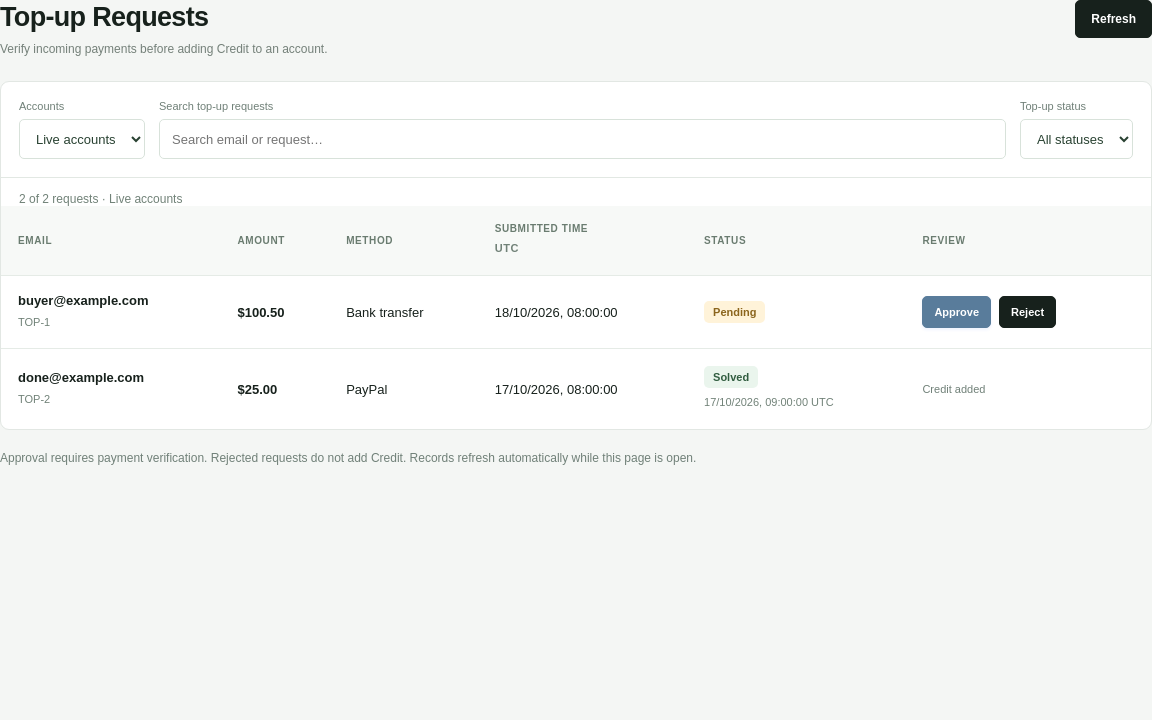
Test case: ConsoleTopupsPage › keeps rejection reachable on the established service without claiming email delivery
The width and height of the screenshot is (1152, 720).
Click the button "Reject" at (1028, 312), box [999,296,1056,328]
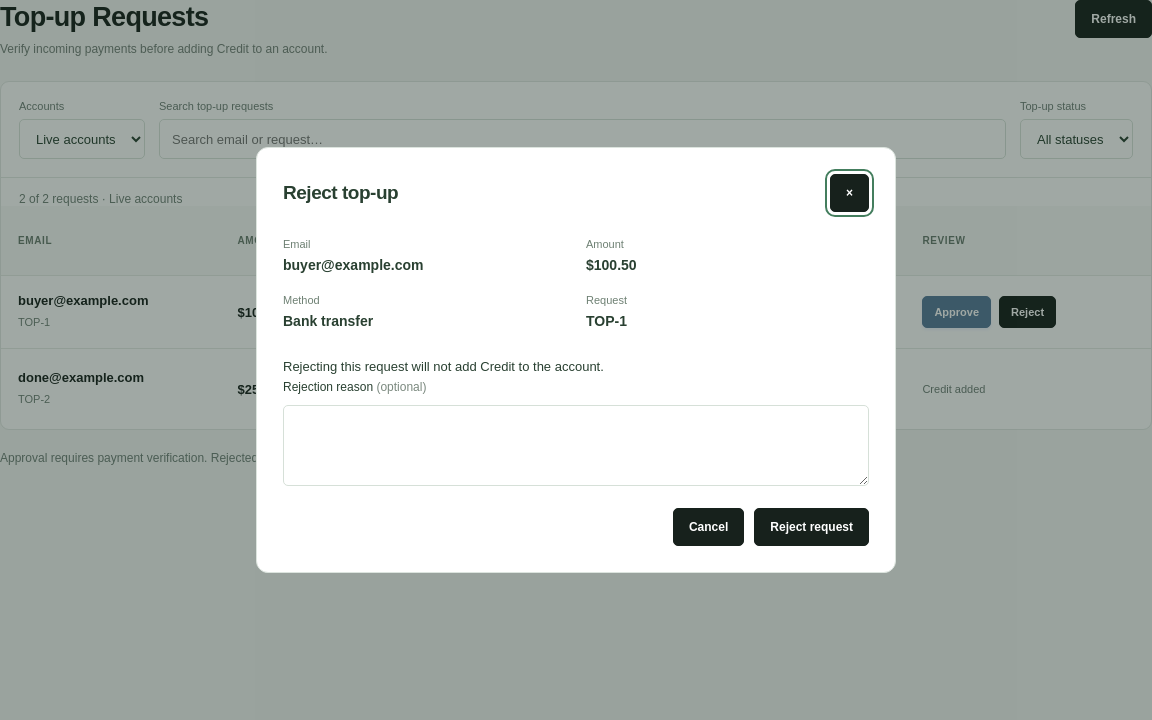
Check: the heading "Reject top-up" is shown, box [283,182,398,204]
Check: the button "Reject request" is shown, box [754,508,869,546]
